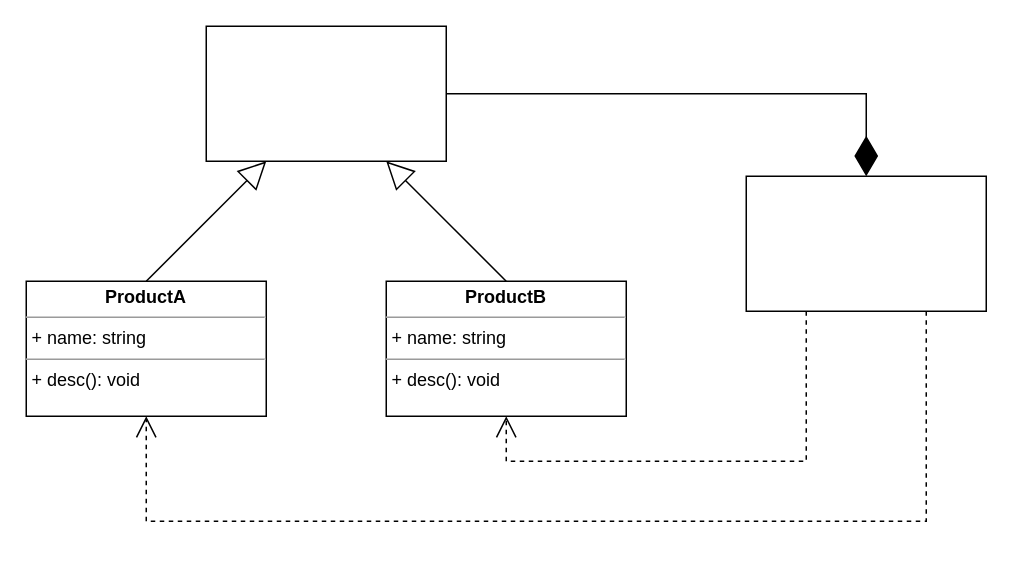
Some shapes in this 1013 by 569 pixel diagram are drawn without their labels. The shapes that lost their labels are listed below. From the top down, each one's centre as x and y in pixels, then its label:
point (325, 93): Product + name: string + desc(): void
point (865, 243): Factory + product_dict : Product + create(name): Product
